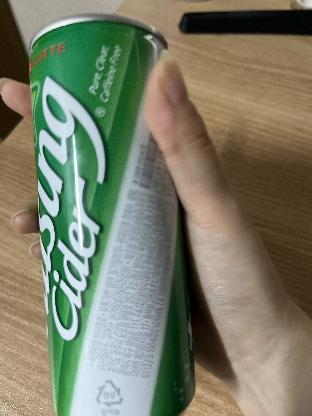Can: (32, 16, 195, 416)
